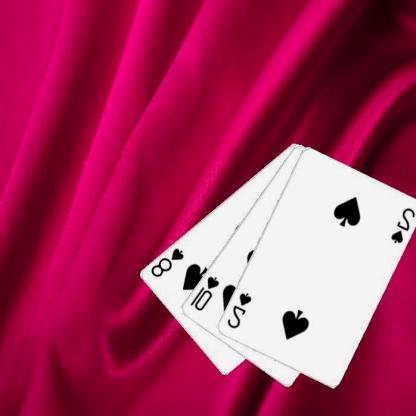10S: (189, 274, 222, 312)
2S: (226, 290, 254, 330), (389, 205, 416, 245)
8S: (149, 245, 187, 278)
